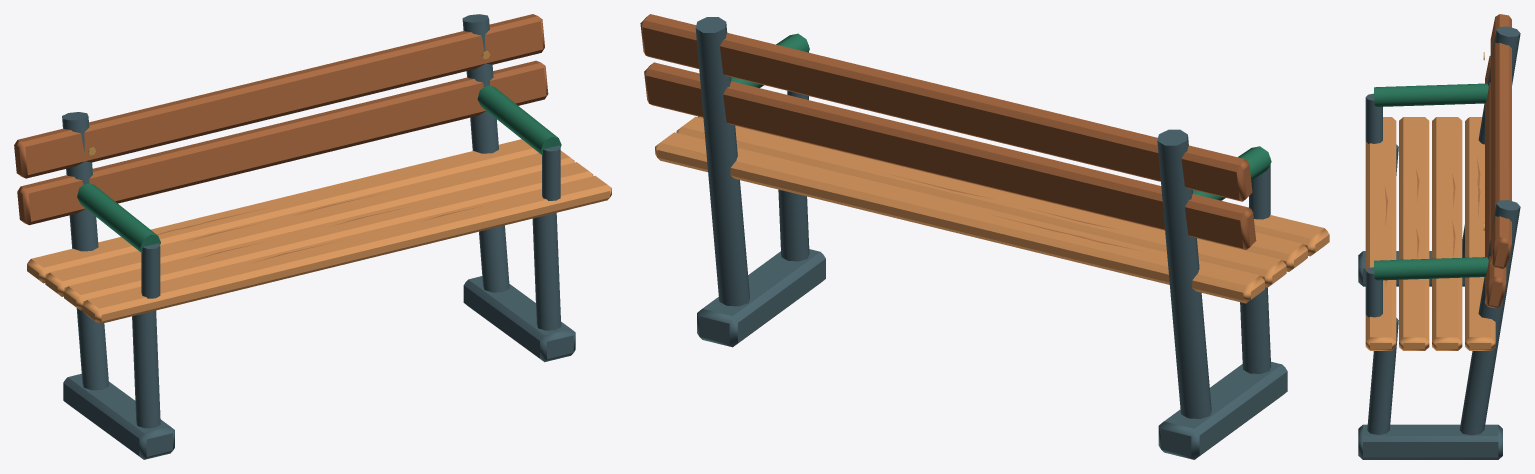
Rendered from bench.glb.
3 renders of one model, left to right at view 1: azimuth 30°, elevation 25°; view 2: azimuth 150°, elevation 25°; view 3: azimuth 270°, elevation 25°, orthographic. The views are drawn at different scales.
Visible parts, largest first — view 1: Bench; view 2: Bench; view 3: Bench.
Boxes of the visible parts, x1,y1,x2,y2 form: Bench: (14,14,611,459); Bench: (640,14,1329,459); Bench: (1358,14,1520,459).
Bounding box in the file's own units: 1.62 × 0.8354 × 0.4901.
